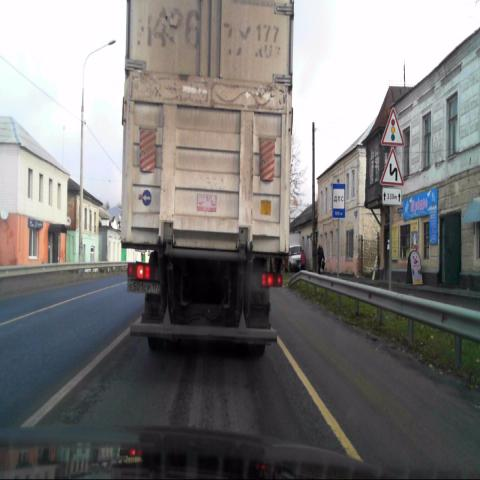1_12_2: (380, 147, 404, 185)
7_12: (332, 183, 345, 218)
8_2_1: (382, 188, 401, 205)
